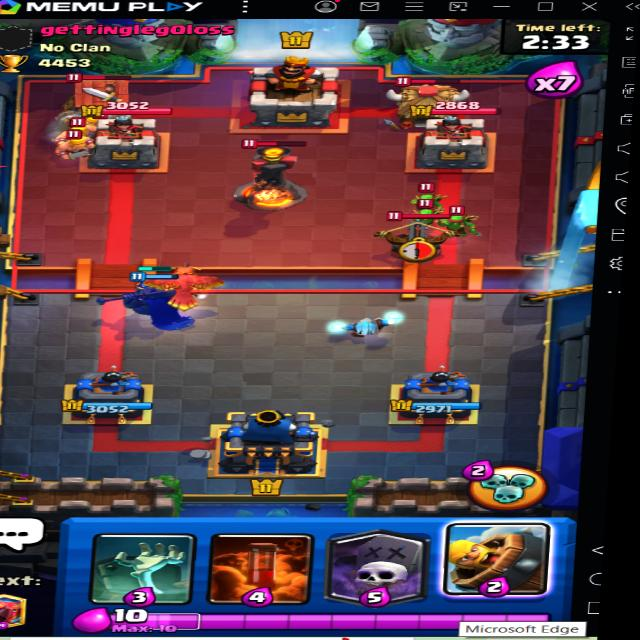barbarian: (52, 131, 101, 160), (46, 120, 102, 144)
barbarian-hut: (56, 69, 139, 132)
goblin-hut: (386, 72, 473, 127)
inferno-tower: (226, 136, 316, 208)
spear-goblin: (437, 210, 480, 233), (410, 204, 442, 228), (408, 187, 440, 209)
x-bow: (372, 202, 466, 258)
